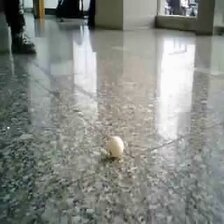w: (107, 137, 124, 157)
